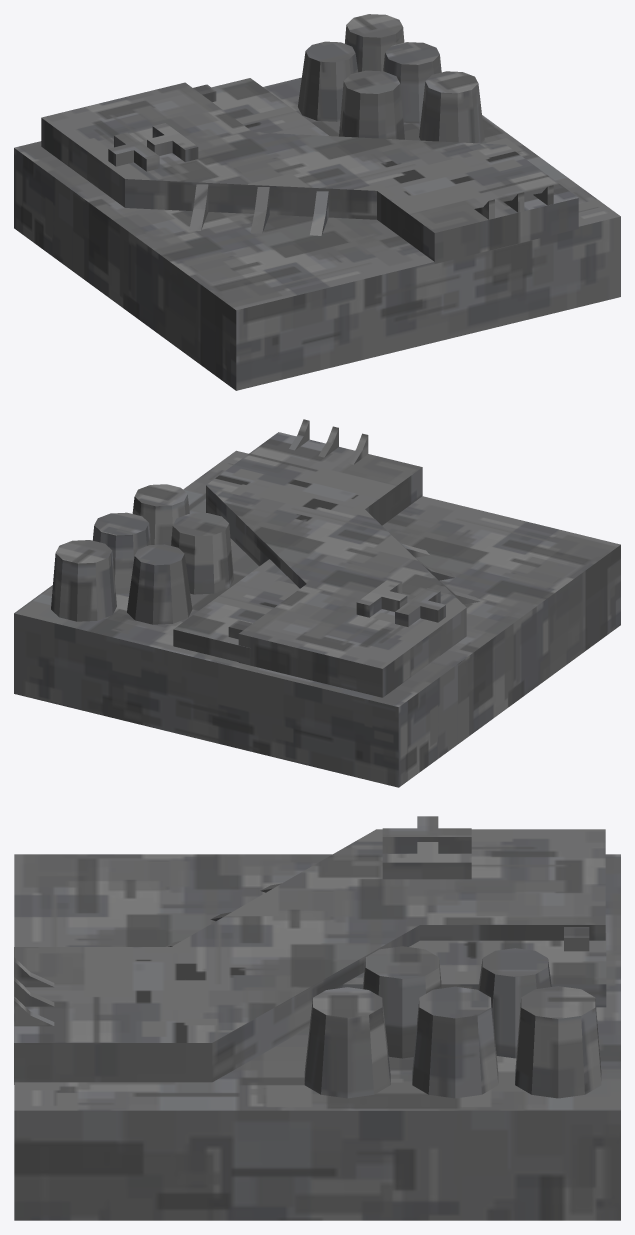
File: block 2x2 bottom right.fbx
3 views of the same model, one above another, from view 1: azimuth 30°, elevation 25°; view 2: azimuth 150°, elevation 25°; view 3: azimuth 270°, elevation 25° (orthographic). The views are drawn at different scales.
Parts seen in each view (by area): view 1: Bottom_Right; view 2: Bottom_Right; view 3: Bottom_Right.
Part boxes in pixels (box(x1,y1,x2,y2)): Bottom_Right: box(14, 14, 620, 390); Bottom_Right: box(14, 419, 620, 787); Bottom_Right: box(14, 816, 620, 1220).
Bounding box in the file's own units: 5 × 1.7 × 5.
1 material, 1 textured.
